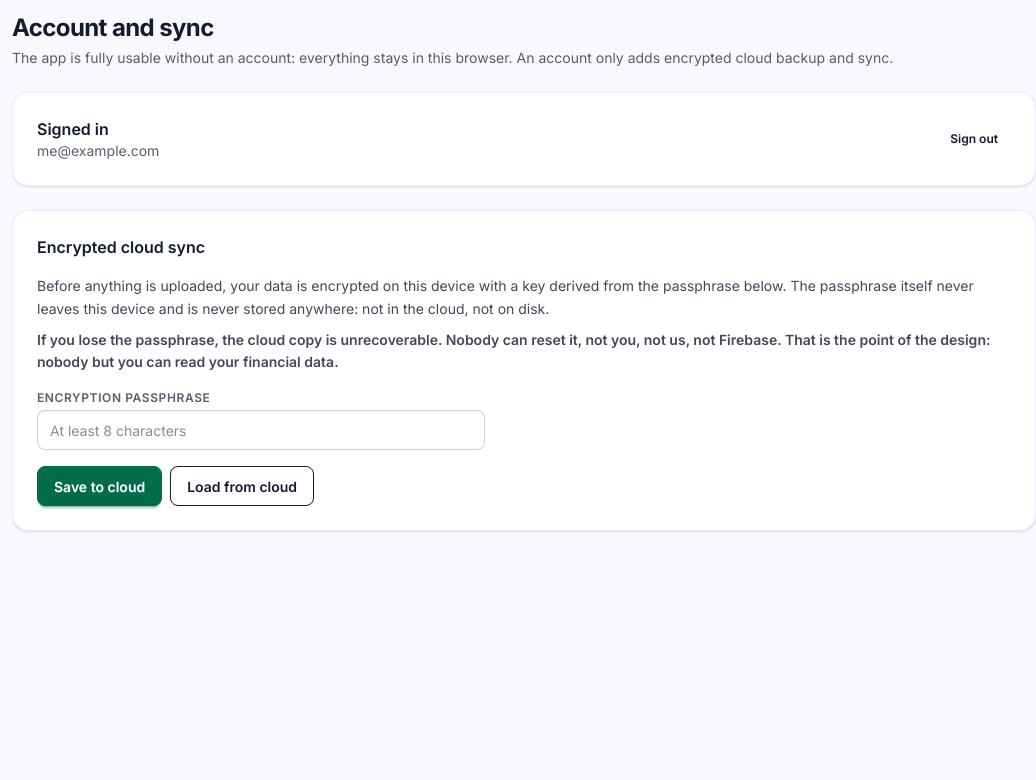
Test: AccountPage › loads cloud data into the store
Type "correct horse battery" into the password field labelled "Encryption passphrase" at (261, 430), box [37,410,485,450]
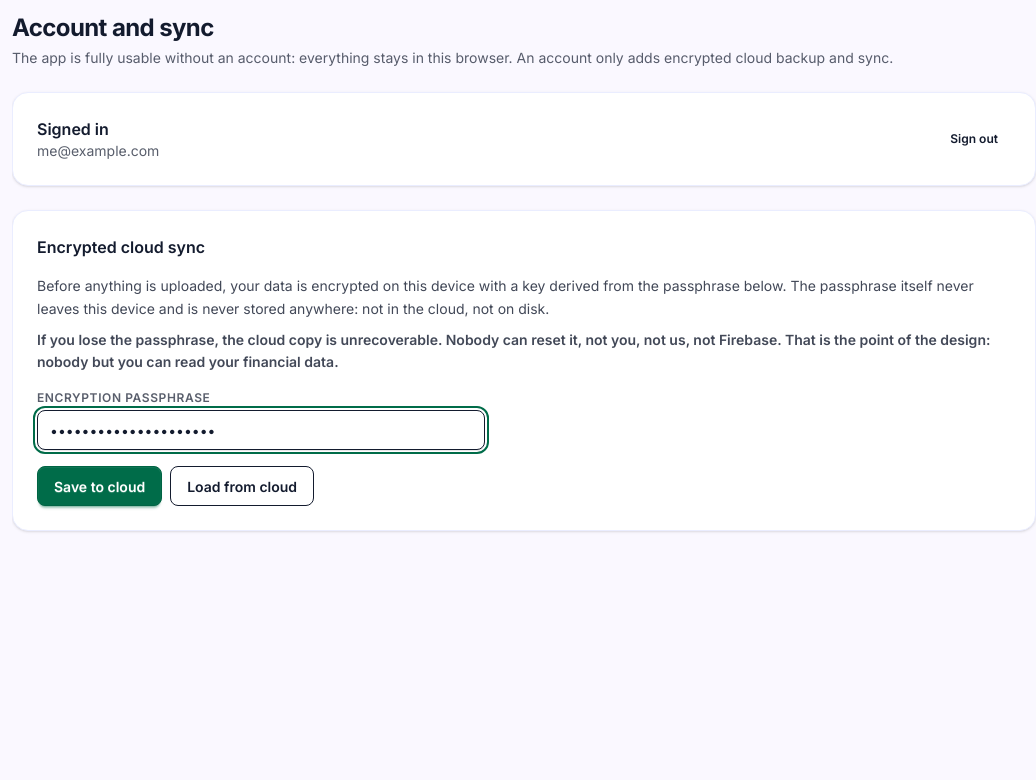
Click the button "Load from cloud" at (242, 486), box [170,466,314,506]
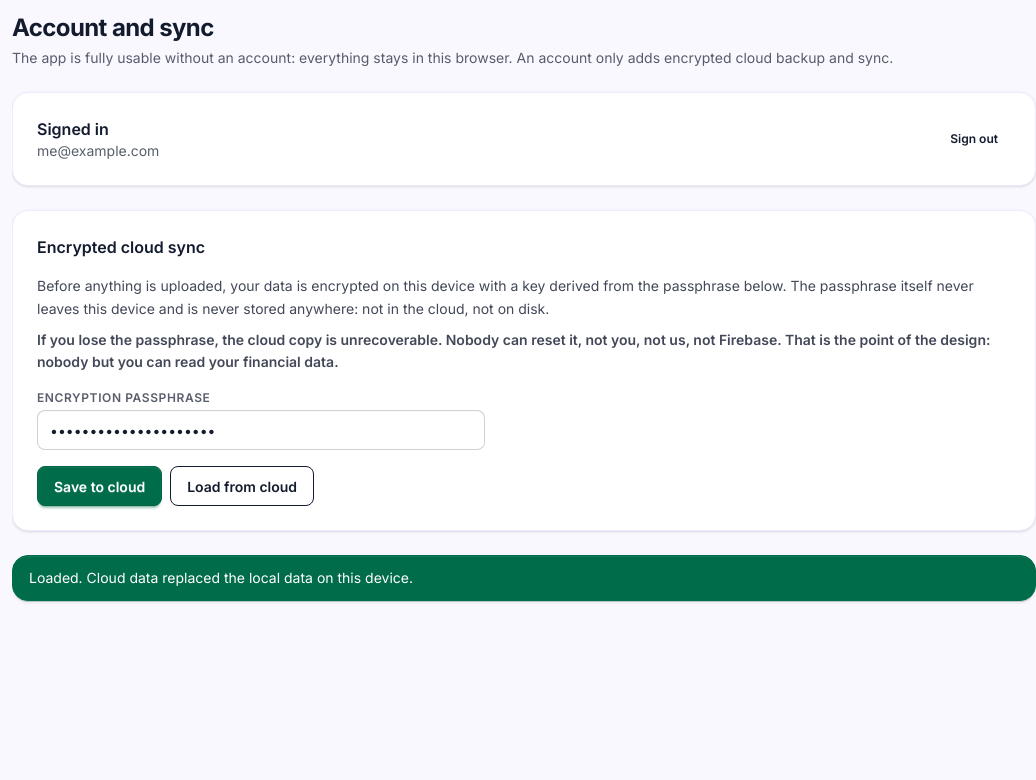
Expected: the message shows "Loaded", [29,569,413,586]
